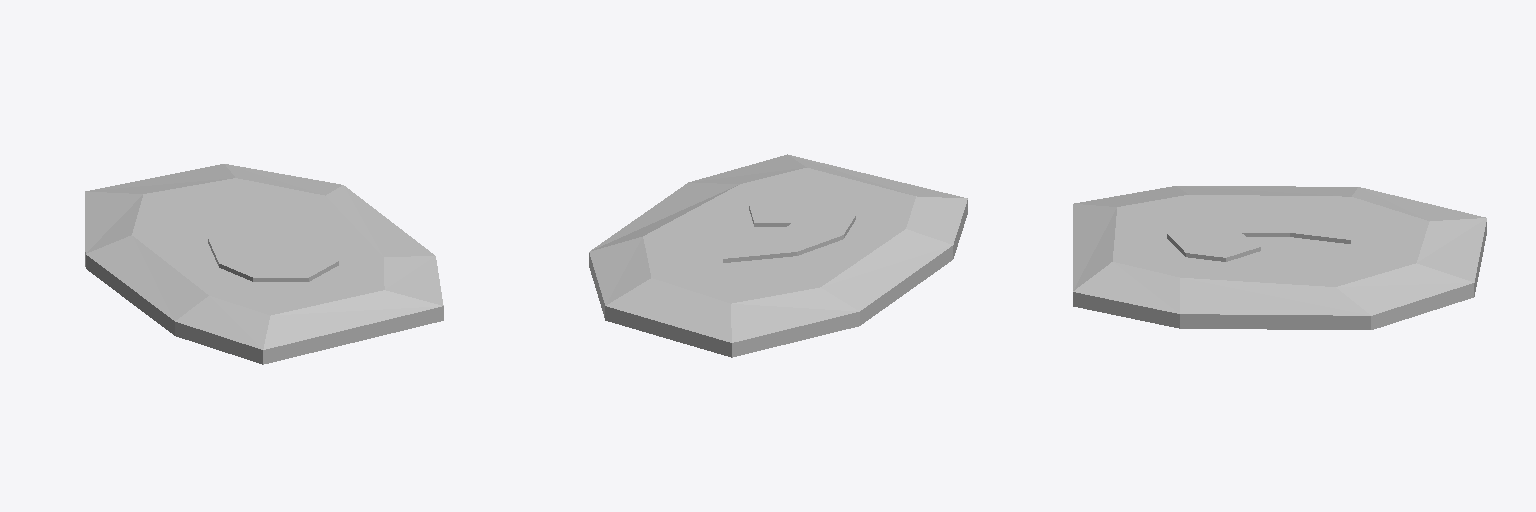
Rendered from ruin-water.obj.
3 renders of one model, left to right at view 1: azimuth 30°, elevation 25°; view 2: azimuth 150°, elevation 25°; view 3: azimuth 270°, elevation 25°, orthographic.
Visible parts, largest first — view 1: ruin_Cylinder; view 2: ruin_Cylinder; view 3: ruin_Cylinder.
Part boxes in pixels (bbox=[...]): ruin_Cylinder: bbox=[85, 164, 443, 364]; ruin_Cylinder: bbox=[589, 154, 967, 357]; ruin_Cylinder: bbox=[1073, 186, 1486, 329].
Size of the model in its own units: 19.12 by 2.82 by 25.77.